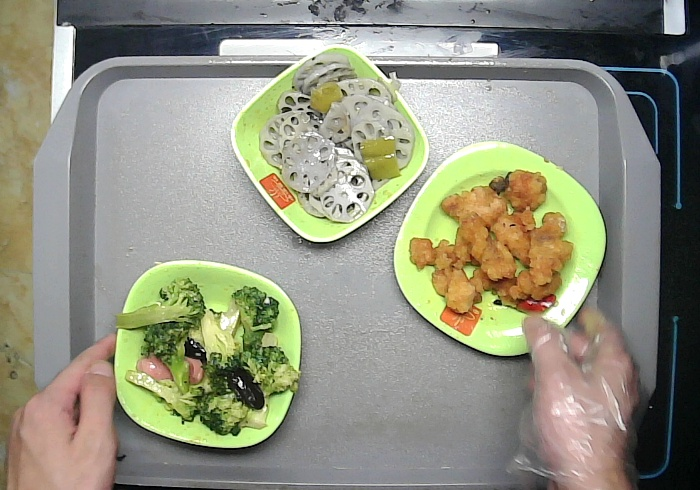SHKJ-Lv_Se_Cai_Die: (115, 258, 301, 447)
SHKJ-Lv_Se_Si_Fang_Cai_Die: (393, 140, 607, 356)
SHKJ-Lv_Se_Xiao_Fang_Die: (229, 43, 429, 242)
